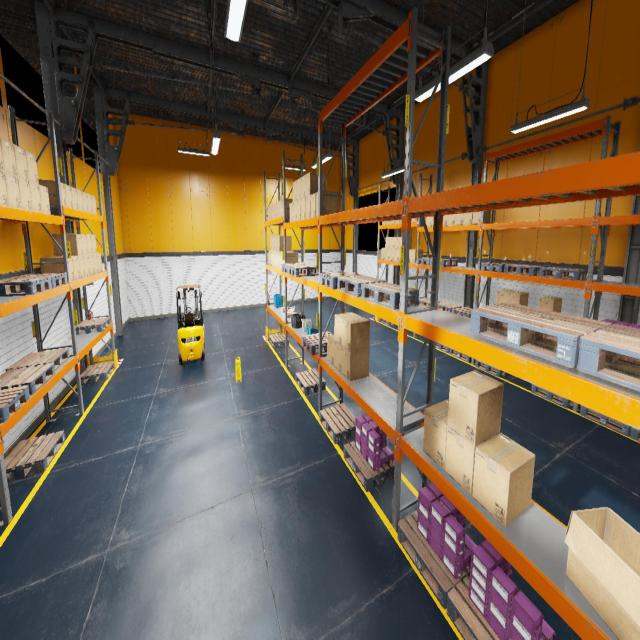box: (564, 507, 640, 639), (472, 432, 535, 528), (448, 370, 503, 446), (445, 425, 499, 495), (422, 399, 448, 470), (342, 316, 369, 352), (342, 347, 369, 381), (334, 312, 360, 346), (38, 179, 66, 207), (40, 257, 74, 280), (52, 233, 84, 256), (49, 256, 80, 279), (0, 137, 17, 176), (316, 190, 339, 217), (4, 173, 21, 209), (13, 144, 29, 181), (306, 171, 326, 197), (25, 150, 39, 184), (18, 178, 32, 211), (29, 181, 42, 213), (538, 296, 562, 312), (39, 184, 50, 214), (508, 291, 528, 306), (0, 171, 8, 206), (496, 290, 516, 304), (472, 210, 491, 224), (334, 340, 342, 372), (327, 334, 334, 366), (64, 184, 73, 208), (277, 236, 291, 251), (280, 251, 292, 268), (282, 198, 293, 216), (76, 189, 84, 211), (409, 250, 423, 262), (283, 252, 298, 263), (71, 187, 78, 210), (78, 255, 85, 278), (310, 192, 316, 218), (399, 236, 412, 248), (81, 234, 88, 255), (88, 254, 95, 274), (0, 138, 4, 172), (82, 192, 88, 212), (87, 194, 93, 214), (84, 255, 90, 275), (305, 195, 310, 219), (463, 212, 472, 225), (91, 195, 97, 214), (86, 235, 92, 254), (91, 234, 97, 253), (296, 178, 301, 200), (454, 213, 463, 225), (446, 214, 455, 225), (301, 175, 305, 198), (409, 249, 416, 262), (93, 254, 98, 272), (97, 253, 102, 271), (301, 198, 305, 220), (296, 199, 300, 221), (289, 202, 293, 222), (425, 216, 432, 226), (293, 180, 296, 202), (394, 237, 400, 248), (293, 201, 296, 221), (394, 249, 399, 261), (411, 218, 425, 222), (389, 249, 394, 260), (385, 237, 390, 248), (442, 215, 447, 226), (279, 200, 282, 217), (287, 306, 295, 312), (385, 248, 389, 260), (381, 248, 385, 260), (277, 252, 280, 267), (390, 237, 394, 248), (281, 306, 288, 312), (290, 312, 296, 318), (287, 311, 293, 317), (277, 202, 279, 218), (270, 204, 272, 220), (275, 251, 277, 267), (272, 250, 274, 266), (274, 203, 276, 218), (272, 204, 274, 219), (274, 236, 276, 251), (272, 236, 274, 251), (268, 206, 270, 220), (270, 251, 272, 265), (268, 250, 270, 264), (270, 236, 272, 250), (391, 220, 395, 224), (382, 221, 386, 225), (386, 221, 391, 224), (399, 249, 400, 261), (396, 220, 400, 223), (432, 216, 433, 226), (401, 220, 402, 223)
forklift: (177, 284, 204, 364)
pallets: (470, 302, 611, 368), (398, 511, 470, 609), (576, 324, 640, 391), (446, 572, 499, 640), (4, 430, 65, 480), (344, 441, 394, 491), (0, 362, 55, 394), (580, 405, 631, 436), (361, 282, 419, 309), (6, 348, 69, 371), (320, 403, 355, 444), (0, 385, 30, 423), (531, 384, 573, 408), (337, 276, 387, 296), (0, 277, 52, 296), (5, 273, 68, 288), (295, 368, 326, 394), (320, 272, 365, 289), (80, 362, 114, 384), (302, 331, 332, 355), (539, 267, 587, 280), (76, 317, 110, 334), (475, 360, 507, 377), (504, 264, 547, 276), (450, 348, 476, 362), (481, 262, 517, 272), (288, 265, 318, 276), (282, 263, 312, 273), (269, 333, 289, 347), (438, 302, 462, 313), (430, 258, 458, 266), (452, 307, 472, 318), (418, 297, 442, 306), (416, 258, 441, 265), (630, 426, 640, 442), (618, 359, 640, 366), (436, 342, 449, 353), (379, 318, 395, 325)
